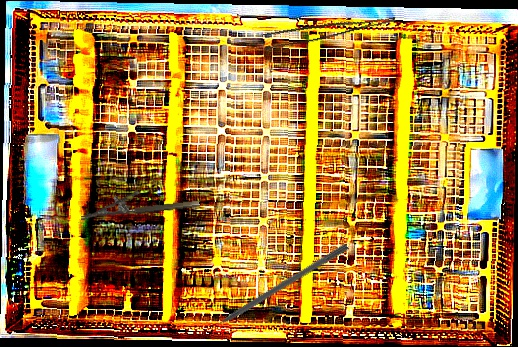Needle Holder: (79, 184, 200, 221)
Pusher: (198, 241, 350, 338)
Tissue Forceps: (261, 2, 396, 54)
